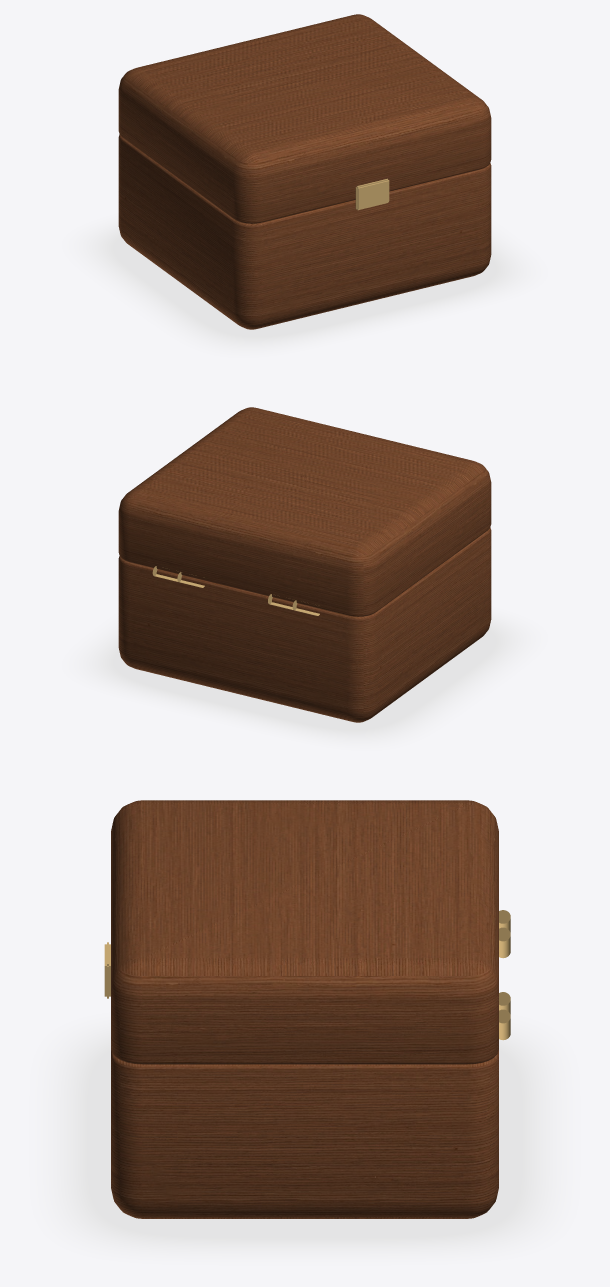
File: watch.glb
3 renders of one model, top to bottom at view 1: azimuth 30°, elevation 25°; view 2: azimuth 150°, elevation 25°; view 3: azimuth 270°, elevation 25°, orthographic. The views are drawn at different scales.
Visible parts, largest first — view 1: LidShell, BaseShell, CaseShadow, Clasp; view 2: LidShell, BaseShell, CaseShadow; view 3: LidShell, BaseShell, CaseShadow.
Part boxes in pixels (box(x1,y1,x2,y2)): LidShell: box(118, 14, 491, 223); BaseShell: box(118, 134, 491, 329); CaseShadow: box(76, 219, 533, 351); Clasp: box(355, 178, 389, 210); LidShell: box(118, 407, 491, 616); BaseShell: box(118, 527, 491, 722); CaseShadow: box(76, 612, 533, 744); LidShell: box(111, 800, 498, 1064); BaseShell: box(111, 1050, 498, 1218); CaseShadow: box(46, 1021, 563, 1257).
Bounding box in the file's own units: 0.186 × 0.082 × 0.168.
Materials: 10 (4 with a texture image).
